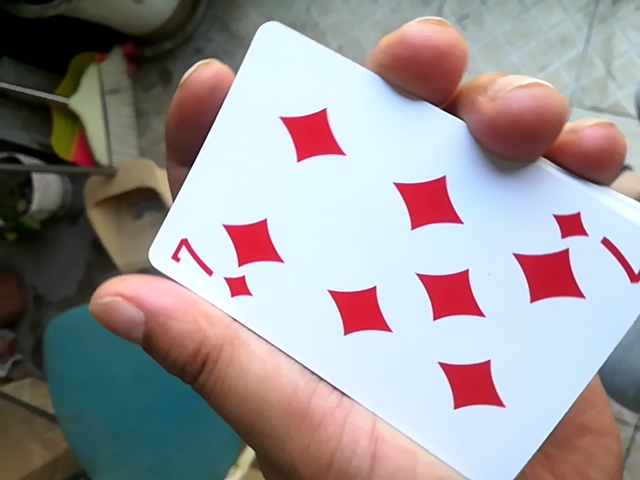fk 7: (129, 19, 632, 480)
